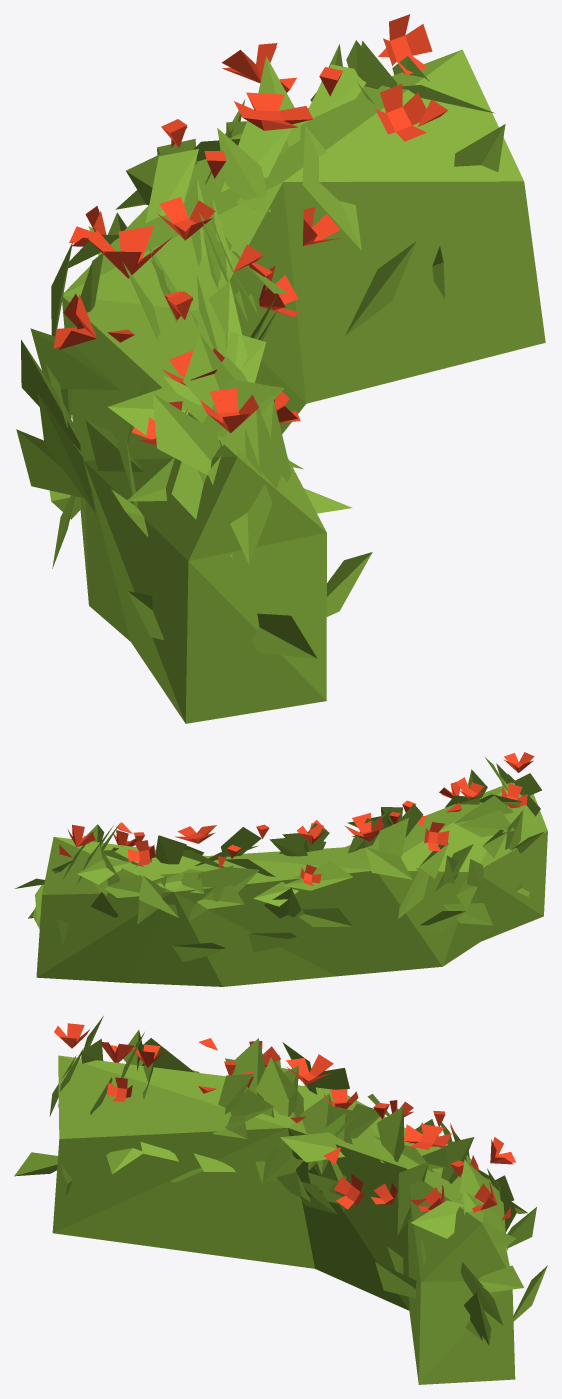
The model's file is SM_Fence_Hedge_City_Short_Flower_Corner_1m.fbx.
The picture shows the model from 3 angles, top to bottom: view 1: azimuth 30°, elevation 25°; view 2: azimuth 150°, elevation 25°; view 3: azimuth 270°, elevation 25°; orthographic projection. The views are drawn at different scales.
Parts seen in each view (by area): view 1: SM_Fence_Hedge_City_Short_Flower_Corner_1m; view 2: SM_Fence_Hedge_City_Short_Flower_Corner_1m; view 3: SM_Fence_Hedge_City_Short_Flower_Corner_1m.
Boxes of the visible parts, x1,y1,x2,y2 form: SM_Fence_Hedge_City_Short_Flower_Corner_1m: (16,14,545,723); SM_Fence_Hedge_City_Short_Flower_Corner_1m: (14,752,547,986); SM_Fence_Hedge_City_Short_Flower_Corner_1m: (14,1016,547,1384).
Size of the model in its own units: 1.23 by 0.5414 by 1.36.
